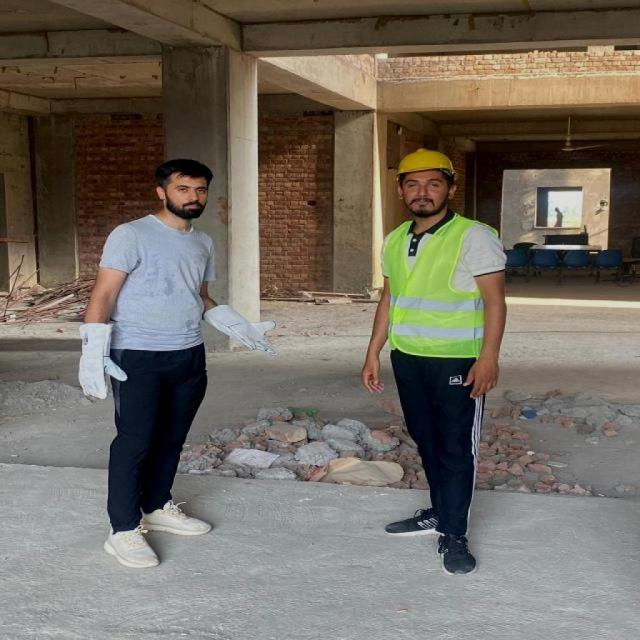Gloves-Detection: (200, 293, 275, 360), (73, 321, 126, 404)
